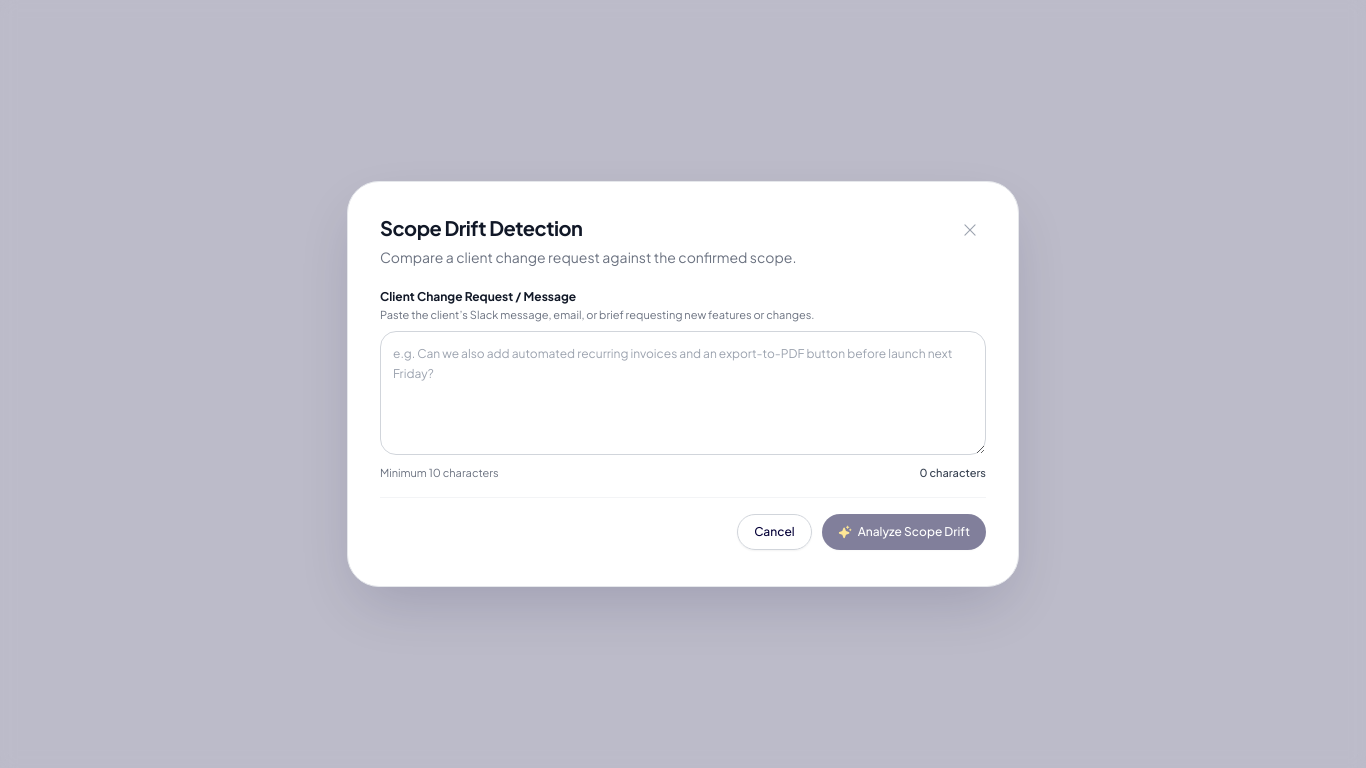
Test: DriftAnalysisModal › disables submit button when input is fewer than 10 characters
Expected: the button "Analyze Scope Drift" is disabled, top-left (822, 514), bottom-right (986, 550)
Replace the text in the text box with "Too short" at (683, 393), box top-left (380, 331), bottom-right (986, 455)
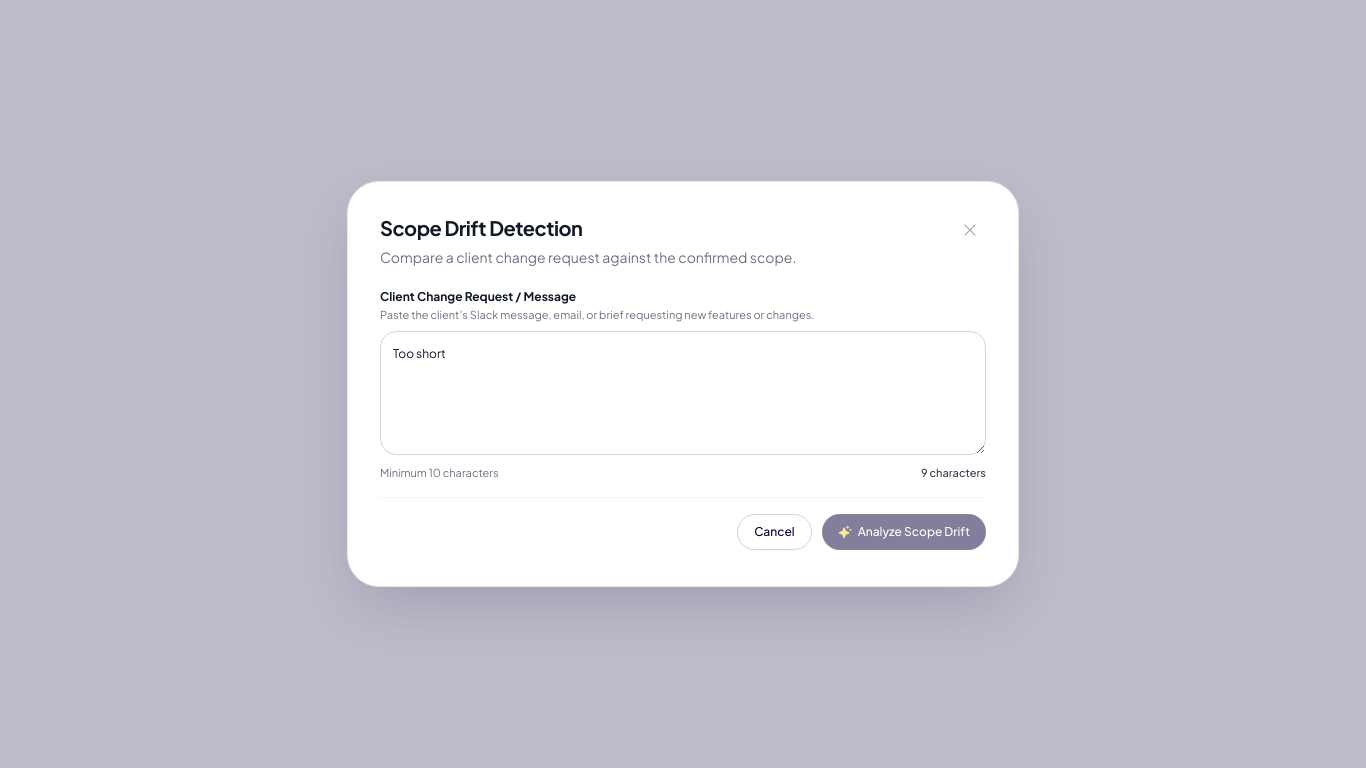
Expected: the button "Analyze Scope Drift" is disabled, top-left (822, 514), bottom-right (986, 550)
Replace the text in the text box with "This is long enough for drift analysis" at (683, 393), box top-left (380, 331), bottom-right (986, 455)
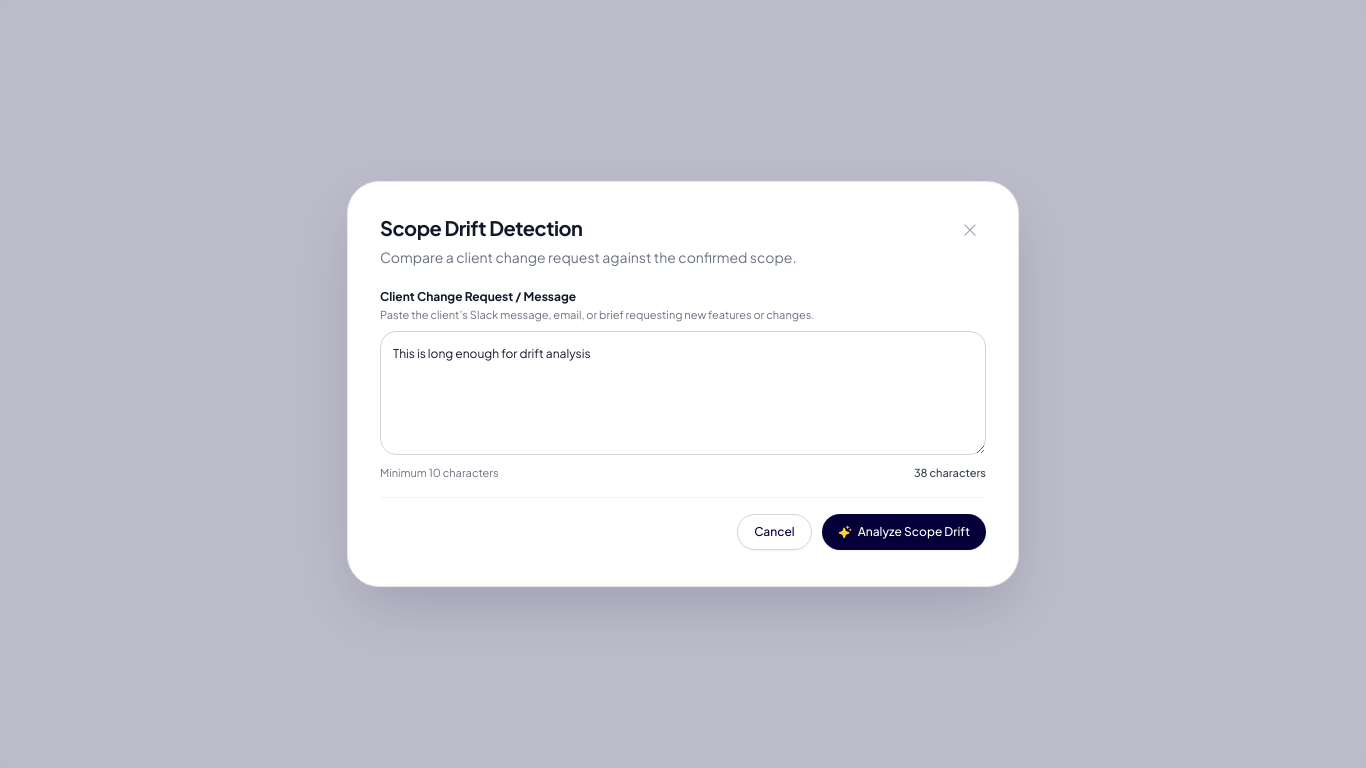
Now the button "Analyze Scope Drift" is enabled, box top-left (822, 514), bottom-right (986, 550)
